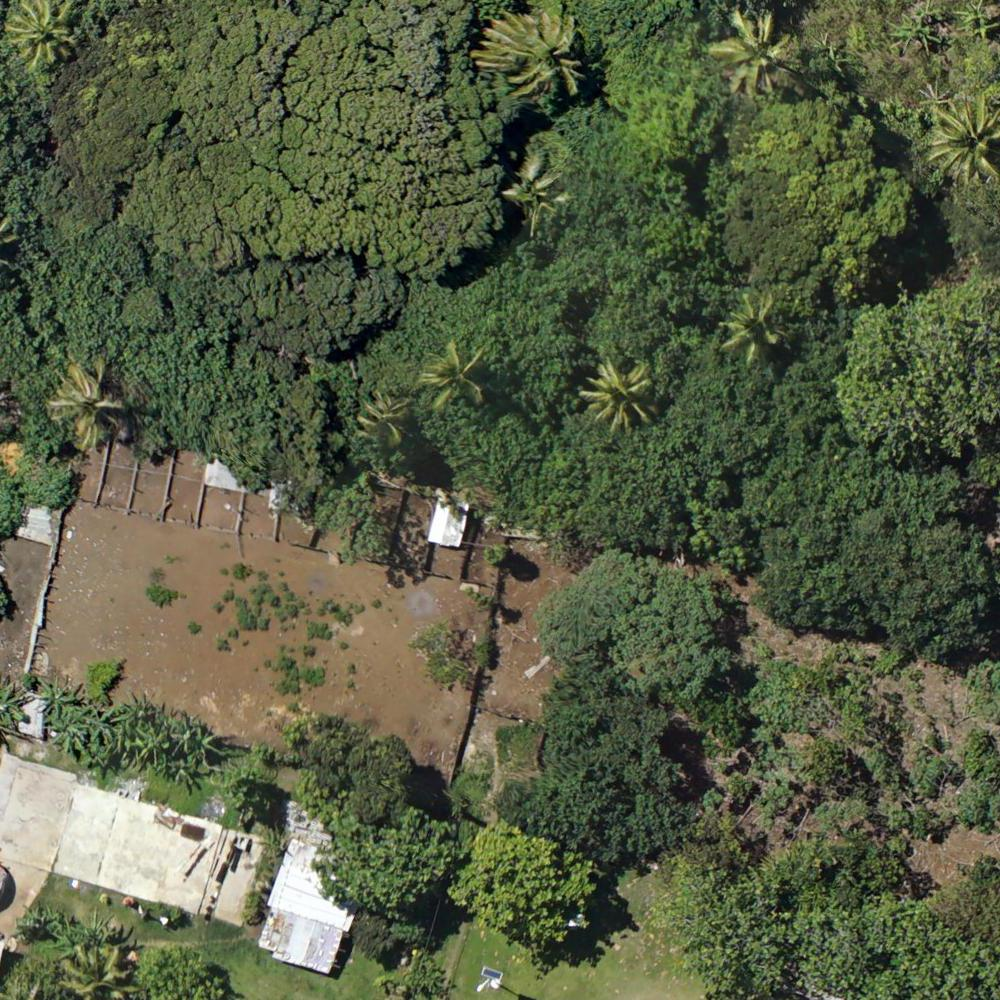Palm: (485, 8, 596, 100), (709, 8, 799, 91), (923, 95, 1000, 180), (45, 361, 123, 441), (583, 355, 658, 433), (6, 1, 84, 71), (717, 292, 787, 362), (416, 342, 484, 407)
